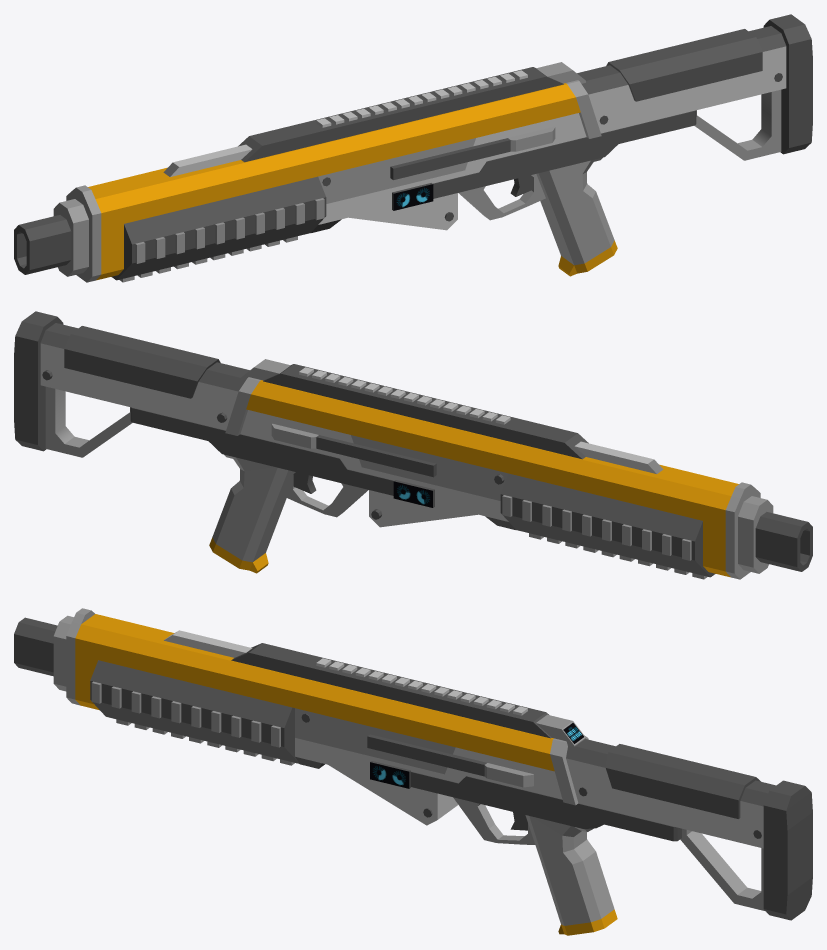
3 views of the same model, one above another, from view 1: azimuth 30°, elevation 25°; view 2: azimuth 150°, elevation 25°; view 3: azimuth 330°, elevation 25° (orthographic).
Visible parts, largest first — view 1: SM_AR02; view 2: SM_AR02; view 3: SM_AR02.
Part boxes in pixels (bbox=[...]): SM_AR02: bbox=[14, 14, 812, 282]; SM_AR02: bbox=[14, 311, 812, 579]; SM_AR02: bbox=[14, 608, 812, 935].
Size of the model in its own units: 79.11 by 20.37 by 7.98.
Materials: 6 (1 with a texture image).
